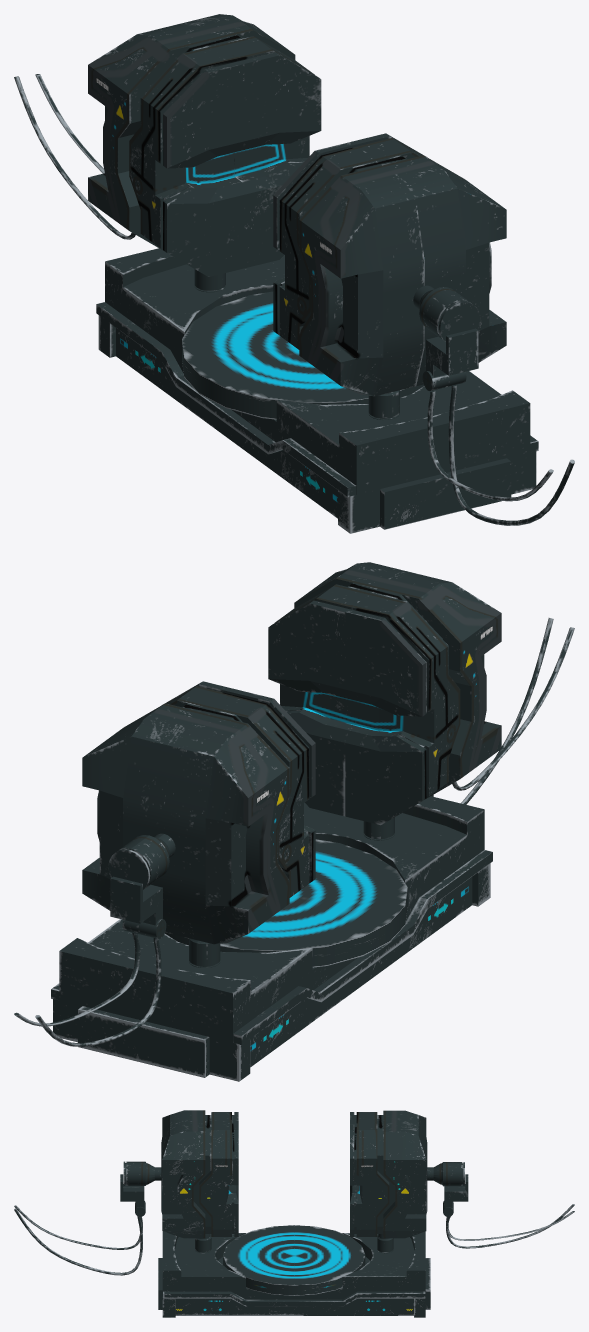
The picture shows the model from 3 angles, top to bottom: view 1: azimuth 30°, elevation 25°; view 2: azimuth 150°, elevation 25°; view 3: azimuth 270°, elevation 25°; orthographic projection. The views are drawn at different scales.
Parts seen in each view (by area): view 1: base, left, right; view 2: base, right, left; view 3: base, left, right.
Part boxes in pixels (<box>): base: <box>96,248,538,533</box>; left: <box>273,133,574,525</box>; right: <box>14,14,321,292</box>; base: <box>51,796,492,1081</box>; right: <box>14,681,315,1046</box>; left: <box>268,562,574,840</box>; base: <box>158,1225,430,1317</box>; left: <box>14,1110,238,1275</box>; right: <box>350,1110,574,1253</box>.
Size of the model in its own units: 6.51 by 8.46 by 25.65.
1 material, 1 textured.
